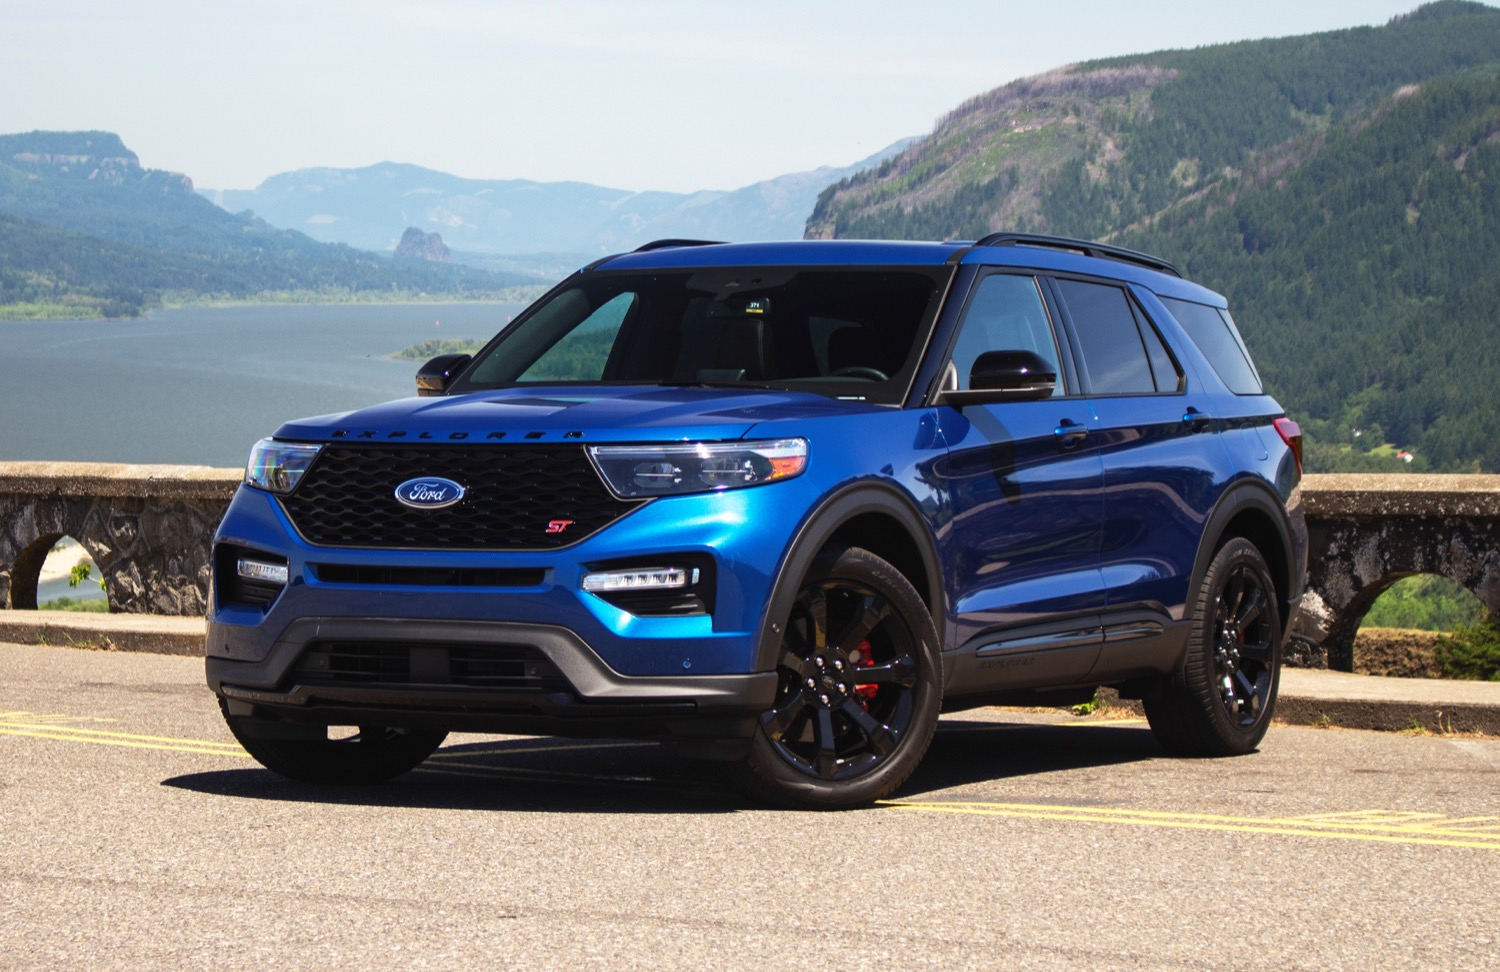Ford Explorer: (197, 235, 1314, 816)
